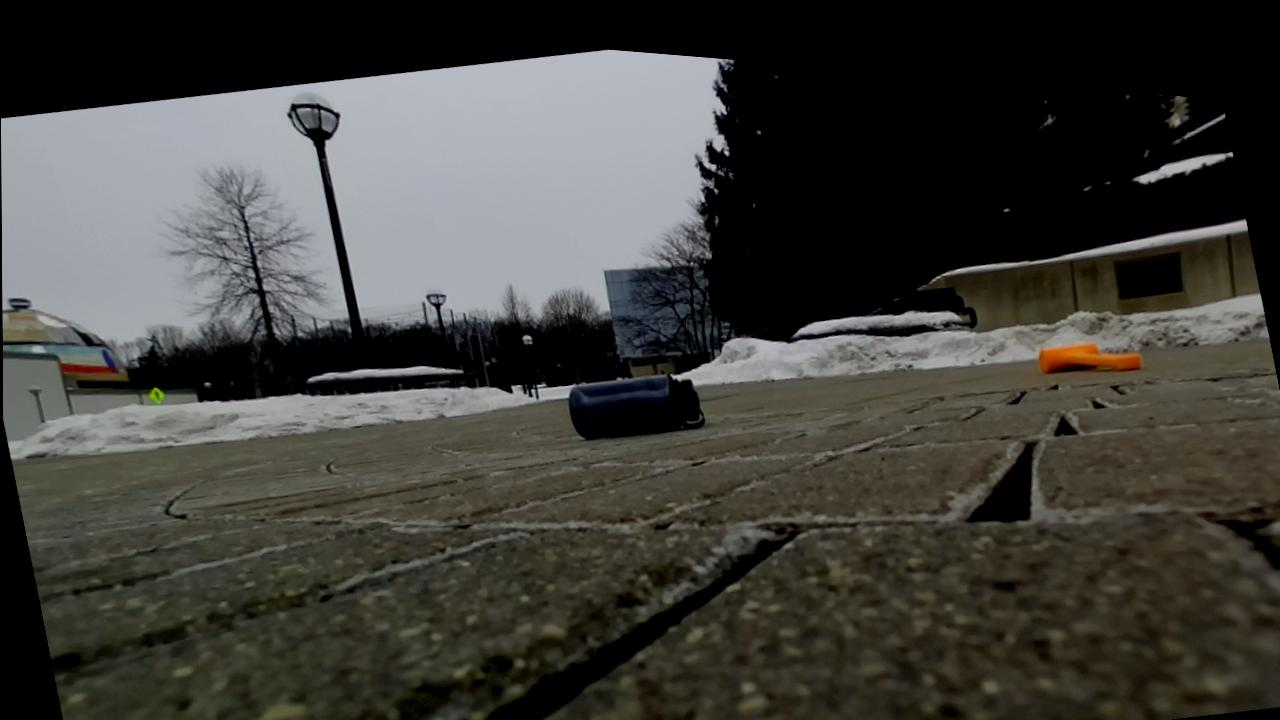bottle: (568, 374, 704, 438)
mallet: (1038, 342, 1140, 372)
